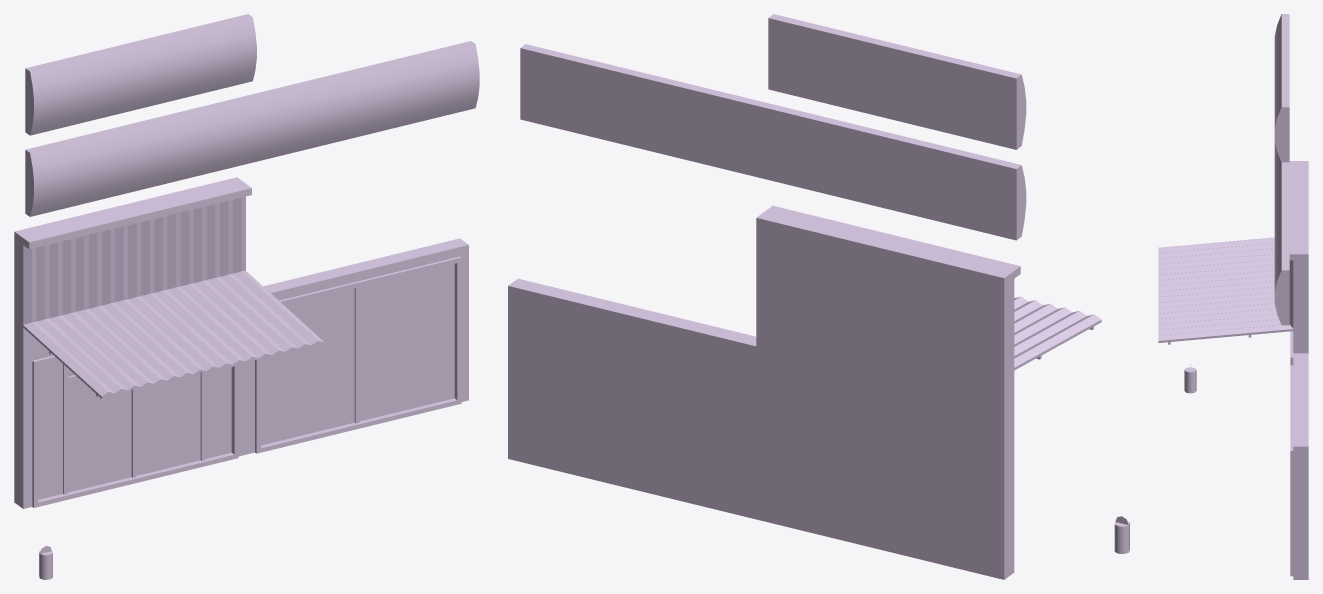
File: Building7.fbx
The picture shows the model from 3 angles, left to right: view 1: azimuth 30°, elevation 25°; view 2: azimuth 150°, elevation 25°; view 3: azimuth 270°, elevation 25°; orthographic projection. The views are drawn at different scales.
Visible parts, largest first — view 1: BuildWall7.001, BuildWall7.002, BuildWall01.001, BuildWall7, BuildWall01.002; view 2: BuildWall7.002, BuildWall7, BuildWall7.001, BuildWall01.001, BuildWall01.002; view 3: BuildWall7.001, BuildWall7.002, BuildWall01.001, BuildWall01.002, Cylinder.
Part boxes in pixels (x1,y1,x2,y2): BuildWall7.001: (14, 177, 324, 398); BuildWall7.002: (246, 238, 468, 454); BuildWall01.001: (25, 41, 479, 216); BuildWall7: (14, 347, 245, 508); BuildWall01.002: (25, 14, 256, 135); BuildWall7.002: (508, 278, 756, 519); BuildWall7: (756, 346, 1014, 579); BuildWall7.001: (756, 205, 1101, 406); BuildWall01.001: (520, 44, 1026, 240); BuildWall01.002: (768, 14, 1026, 149); BuildWall7.001: (1158, 161, 1308, 353); BuildWall7.002: (1290, 353, 1308, 579); BuildWall01.001: (1274, 141, 1289, 325); BuildWall01.002: (1274, 14, 1289, 162); Cylinder: (1184, 364, 1196, 393).
Size of the model in its own units: 658 by 589 by 204.
